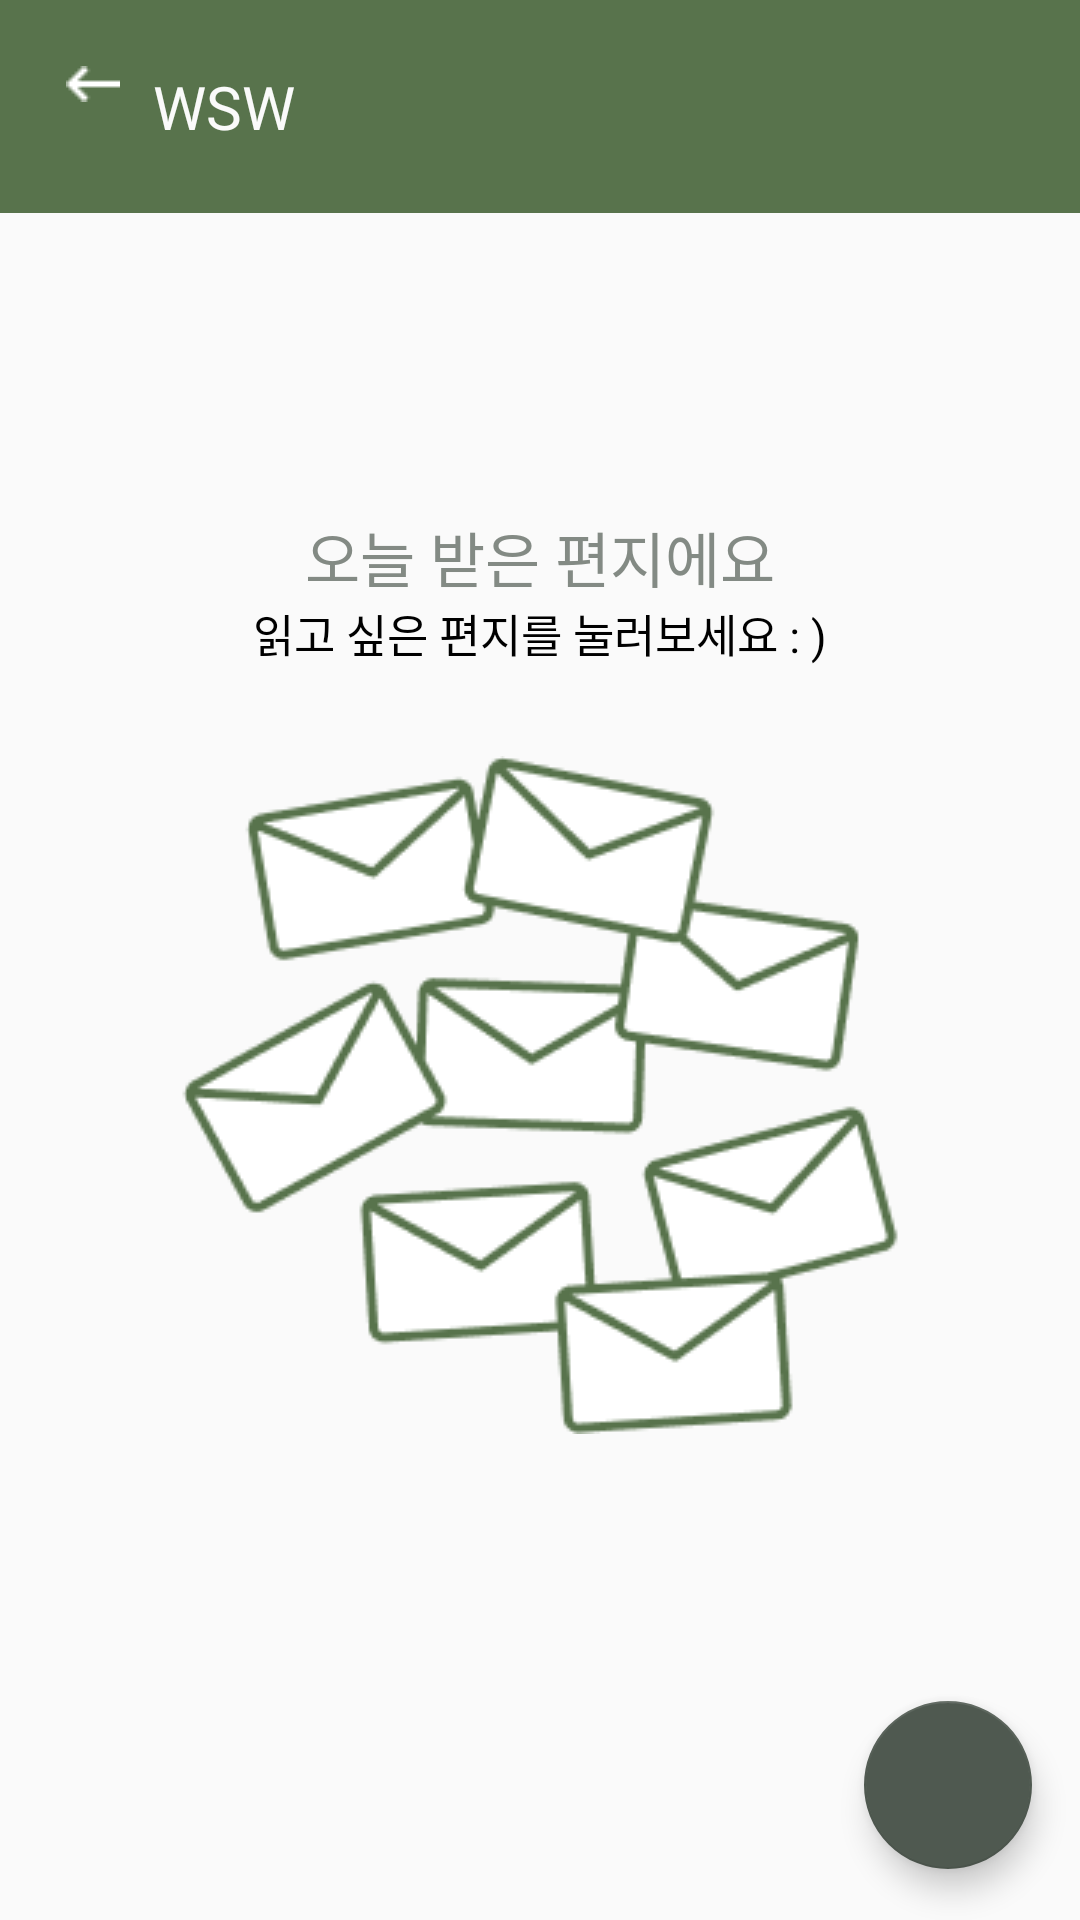

Icons on this 1080w x 1920h Android screen, each with the point to tap as (x,y):
back: (93,84)
